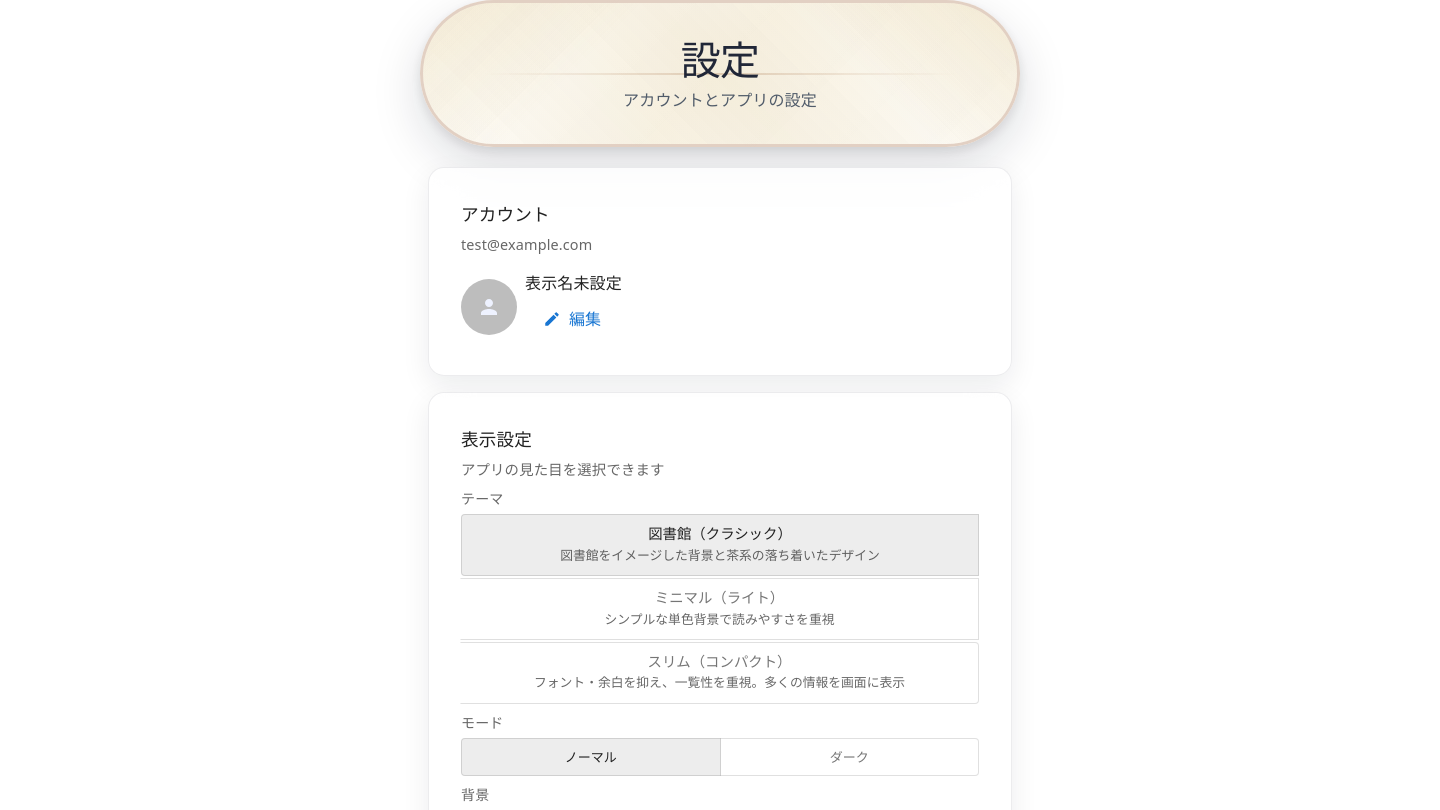
Settings › プロフィールを編集して保存できる
Click the button with test id "profile-edit-button" at [573, 319], box [525,295,621,343]
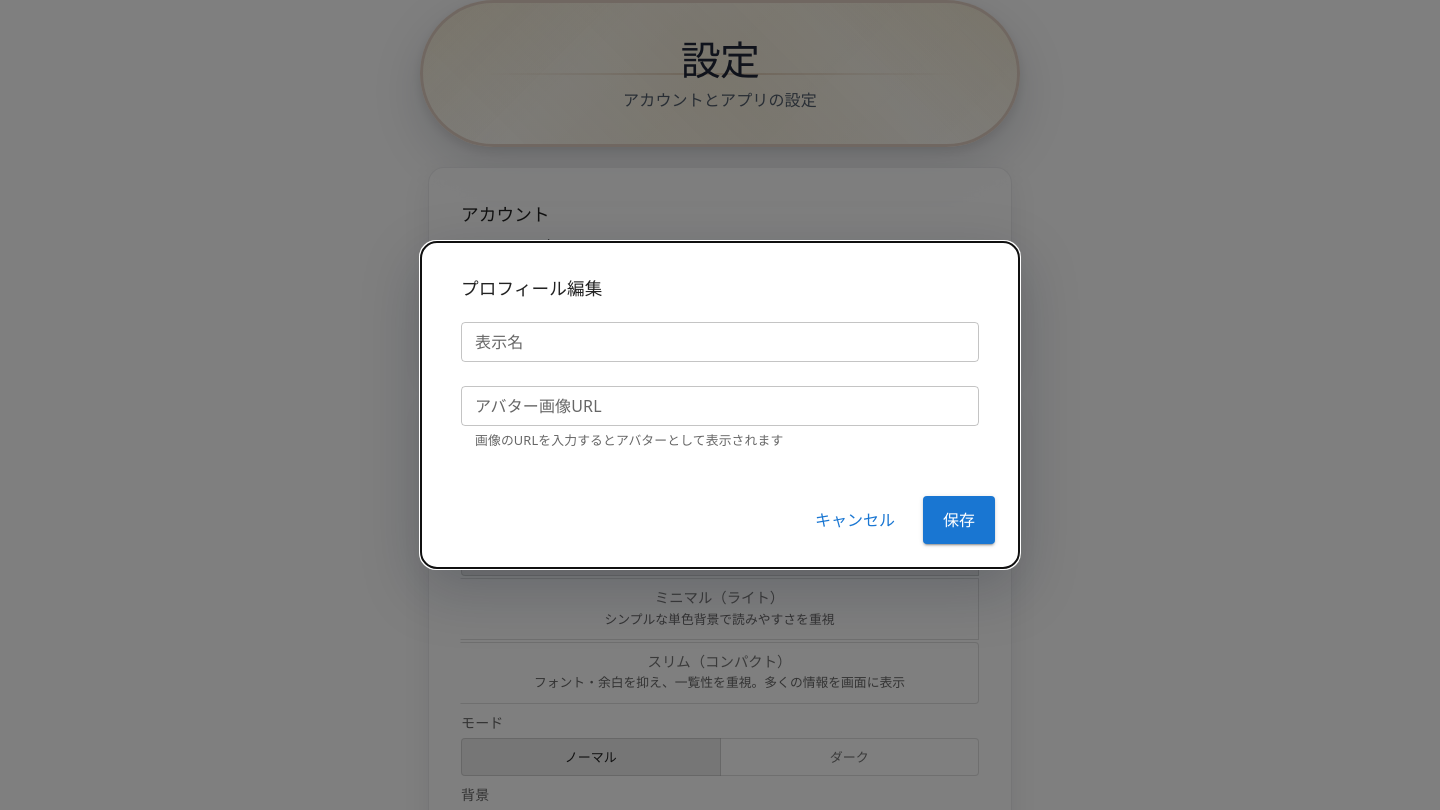
Type "テストユーザー" into the field with test id "profile-display-name-input" at [720, 342], box [461,322,979,362]
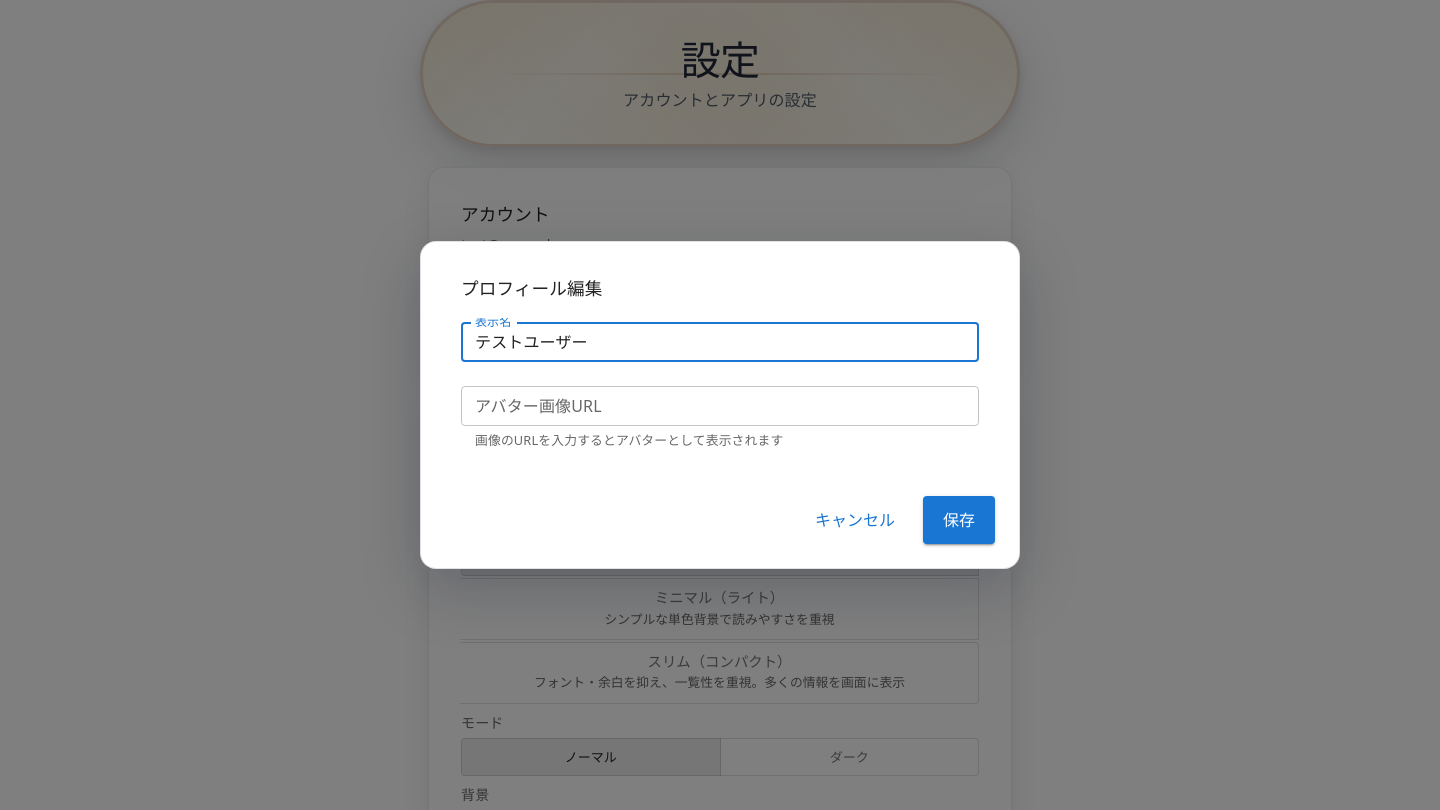
Click the button with test id "profile-save-button" at [959, 520], box [923,496,995,544]
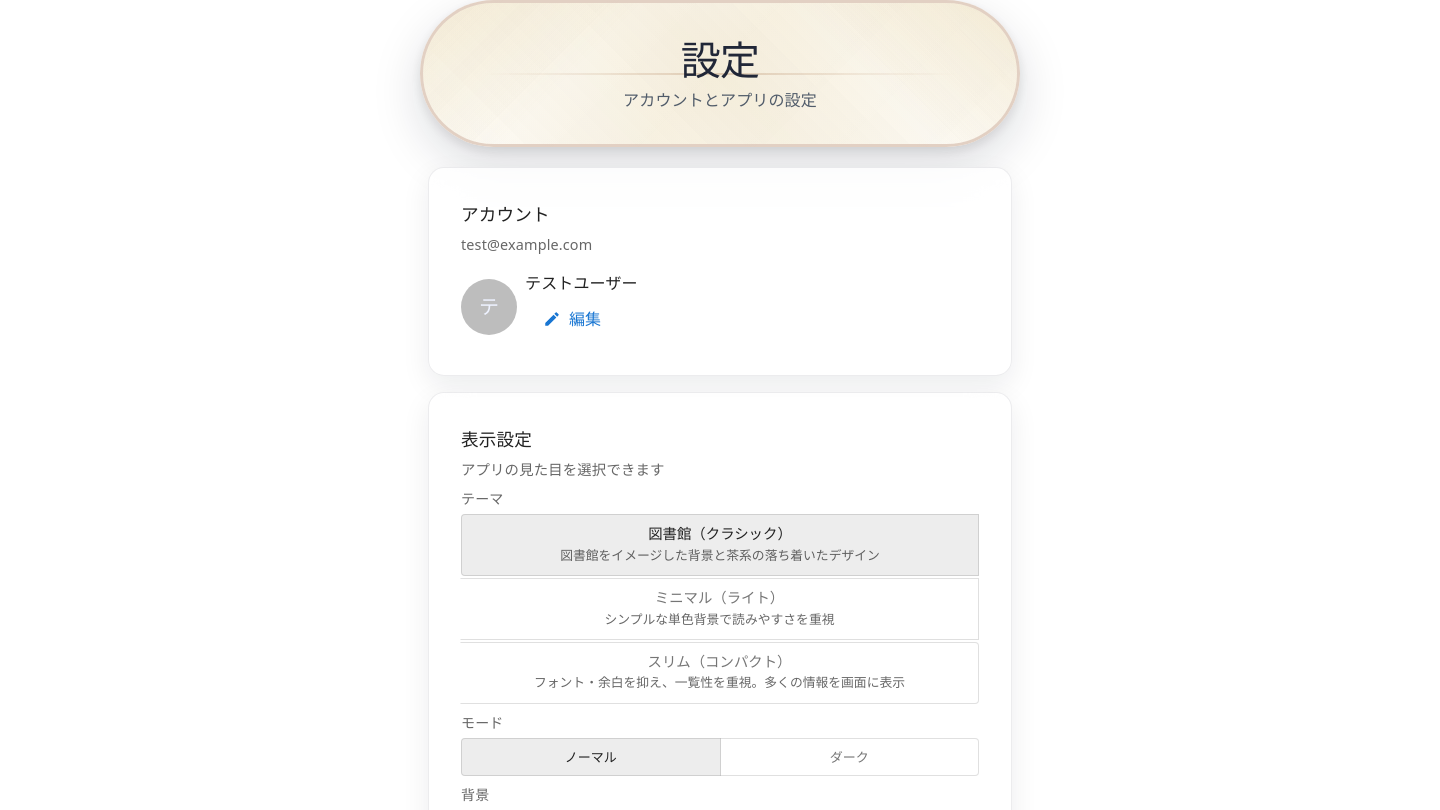
Result: the heading "プロフィール編集" is gone
